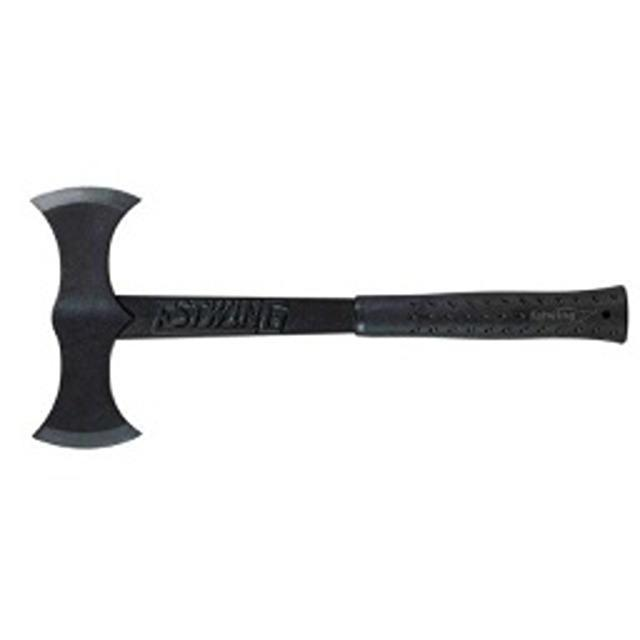ax: (24, 177, 636, 454)
